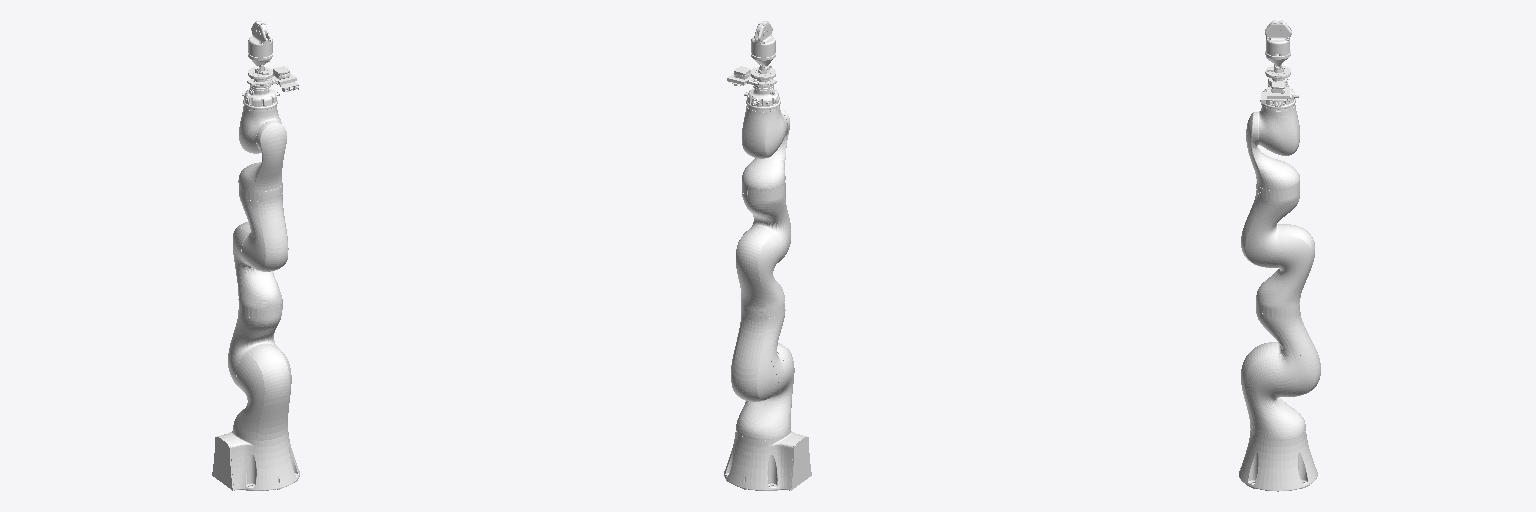
The robot description file, URDF, robot "converted_robot":
<?xml version="1.0" ?>
<robot name="converted_robot">
   <link name="world">
      <inertial>
         <origin xyz="0.0 0.0 0.0" rpy="0.0 0.0 0.0"/>
         <mass value="0.0"/>
         <inertia ixx="0.0" iyy="0.0" izz="0.0" ixy="0" ixz="0" iyz="0"/>
      </inertial>
   </link>
   <link name="iiwa_base">
      <inertial>
         <origin xyz="0.0 0.0 0.0" rpy="0.0 0.0 0.0"/>
         <mass value="0.0"/>
         <inertia ixx="0.0" iyy="0.0" izz="0.0" ixy="0" ixz="0" iyz="0"/>
      </inertial>
      <visual name="link_0">
         <origin xyz="-0.012605232162215539 4.887429599908401e-06 0.07037290460250488" rpy="3.1414254651921683 -1.4927369668762536 0.0005002689558265255"/>
         <geometry>
            <mesh filename="converted_link_0.stl"/>
         </geometry>
         <material name="white"/>
      </visual>
      <visual name="link_0">
         <origin xyz="-0.012605232162215539 4.887429599908401e-06 0.07037290460250488" rpy="3.1414254651921683 -1.4927369668762536 0.0005002689558265255"/>
         <geometry>
            <mesh filename="converted_link_0.stl"/>
         </geometry>
         <material name="white"/>
      </visual>
   </link>
   <link name="world2iiwa_base_fixed">
      <inertial>
         <origin xyz="0.0 0.0 0.0" rpy="0.0 0.0 0.0"/>
         <mass value="0.001"/>
         <inertia ixx="1e-09" iyy="1e-09" izz="1e-09" ixy="0" ixz="0" iyz="0"/>
      </inertial>
   </link>
   <joint type="fixed" name="world2iiwa_base_fixed">
      <parent link="world"/>
      <child link="world2iiwa_base_fixed"/>
      <origin xyz="0.0 0.0 0.0" rpy="0.0 0.0 0.0"/>
   </joint>
   <joint type="fixed" name="world2iiwa_base_fixed_offset">
      <parent link="world2iiwa_base_fixed"/>
      <child link="iiwa_base"/>
      <origin xyz="-0.0 -0.0 -0.0" rpy="0.0 0.0 0.0"/>
   </joint>
   <link name="iiwa_link_1">
      <inertial>
         <origin xyz="0.0 -0.01439 0.102503" rpy="0.0 0.0 0.0"/>
         <mass value="6.495"/>
         <inertia ixx="0.0690761441316632" iyy="0.0711085586914514" izz="0.0200625854402119" ixy="0" ixz="0" iyz="0"/>
      </inertial>
      <visual name="link_1">
         <origin xyz="-5.27104350625686e-06 -0.03353670972211395 0.12342119298767149" rpy="-9.198525242337357e-05 -0.21414688022549955 1.5710213048599266"/>
         <geometry>
            <mesh filename="converted_link_1.stl"/>
         </geometry>
         <material name="white"/>
      </visual>
      <visual name="link_1">
         <origin xyz="-5.27104350625686e-06 -0.03353670972211395 0.12342119298767149" rpy="-9.198525242337357e-05 -0.21414688022549955 1.5710213048599266"/>
         <geometry>
            <mesh filename="converted_link_1.stl"/>
         </geometry>
         <material name="white"/>
      </visual>
   </link>
   <link name="iiwa_joint_1">
      <inertial>
         <origin xyz="0.0 0.0 0.0" rpy="0.0 0.0 0.0"/>
         <mass value="0.001"/>
         <inertia ixx="1e-09" iyy="1e-09" izz="1e-09" ixy="0" ixz="0" iyz="0"/>
      </inertial>
   </link>
   <joint type="revolute" name="iiwa_joint_1">
      <parent link="iiwa_base"/>
      <child link="iiwa_joint_1"/>
      <origin xyz="0.0 0.0 0.1575" rpy="0.0 0.0 0.0"/>
      <axis xyz="0.0 0.0 1.0"/>
      <limit lower="-2.96706" upper="2.96706" effort="100" velocity="100"/>
   </joint>
   <joint type="fixed" name="iiwa_joint_1_offset">
      <parent link="iiwa_joint_1"/>
      <child link="iiwa_link_1"/>
      <origin xyz="-0.0 -0.0 -0.0" rpy="0.0 0.0 0.0"/>
   </joint>
   <link name="iiwa_link_2">
      <inertial>
         <origin xyz="1.2e-05 0.06472 0.004804" rpy="0.0 0.0 0.0"/>
         <mass value="8.807"/>
         <inertia ixx="0.0824701683534692" iyy="0.0164110968055191" izz="0.0873510892661361" ixy="0" ixz="0" iyz="0"/>
      </inertial>
      <visual name="link_2">
         <origin xyz="0.00019457364355379413 0.07676150111206871 0.03696552398076234" rpy="-3.0937993815979024 -1.3271099980218897 1.5213877010393428"/>
         <geometry>
            <mesh filename="converted_link_2.stl"/>
         </geometry>
         <material name="white"/>
      </visual>
      <visual name="link_2">
         <origin xyz="0.00019457364355379413 0.07676150111206871 0.03696552398076234" rpy="-3.0937993815979024 -1.3271099980218897 1.5213877010393428"/>
         <geometry>
            <mesh filename="converted_link_2.stl"/>
         </geometry>
         <material name="white"/>
      </visual>
   </link>
   <link name="iiwa_joint_2">
      <inertial>
         <origin xyz="0.0 0.0 0.0" rpy="0.0 0.0 0.0"/>
         <mass value="0.001"/>
         <inertia ixx="1e-09" iyy="1e-09" izz="1e-09" ixy="0" ixz="0" iyz="0"/>
      </inertial>
   </link>
   <joint type="revolute" name="iiwa_joint_2">
      <parent link="iiwa_link_1"/>
      <child link="iiwa_joint_2"/>
      <origin xyz="0.0 0.0 0.2025" rpy="1.5707963267948963 0.0 3.141592653589793"/>
      <axis xyz="0.0 0.0 1.0"/>
      <limit lower="-2.0944" upper="2.0944" effort="100" velocity="100"/>
   </joint>
   <joint type="fixed" name="iiwa_joint_2_offset">
      <parent link="iiwa_joint_2"/>
      <child link="iiwa_link_2"/>
      <origin xyz="-0.0 -0.0 -0.0" rpy="0.0 0.0 0.0"/>
   </joint>
   <link name="iiwa_link_3">
      <inertial>
         <origin xyz="-0.000208 0.01601 0.087283" rpy="0.0 0.0 0.0"/>
         <mass value="2.8"/>
         <inertia ixx="0.0230152941318817" iyy="0.0228661554143474" izz="0.0454482283748983" ixy="0" ixz="0" iyz="0"/>
      </inertial>
      <visual name="link_3">
         <origin xyz="3.422167817053064e-06 0.034593431321985266 0.11460321517528532" rpy="-0.25847229786925596 -0.004008068005500576 -0.015446283450070843"/>
         <geometry>
            <mesh filename="converted_link_3.stl"/>
         </geometry>
         <material name="white"/>
      </visual>
      <visual name="link_3">
         <origin xyz="3.422167817053064e-06 0.034593431321985266 0.11460321517528532" rpy="-0.25847229786925596 -0.004008068005500576 -0.015446283450070843"/>
         <geometry>
            <mesh filename="converted_link_3.stl"/>
         </geometry>
         <material name="white"/>
      </visual>
   </link>
   <link name="iiwa_joint_3">
      <inertial>
         <origin xyz="0.0 0.0 0.0" rpy="0.0 0.0 0.0"/>
         <mass value="0.001"/>
         <inertia ixx="1e-09" iyy="1e-09" izz="1e-09" ixy="0" ixz="0" iyz="0"/>
      </inertial>
   </link>
   <joint type="revolute" name="iiwa_joint_3">
      <parent link="iiwa_link_2"/>
      <child link="iiwa_joint_3"/>
      <origin xyz="0.0 0.2375 0.0" rpy="1.5707963267948963 0.0 3.141592653589793"/>
      <axis xyz="0.0 0.0 1.0"/>
      <limit lower="-2.96706" upper="2.96706" effort="100" velocity="100"/>
   </joint>
   <joint type="fixed" name="iiwa_joint_3_offset">
      <parent link="iiwa_joint_3"/>
      <child link="iiwa_link_3"/>
      <origin xyz="-0.0 -0.0 -0.0" rpy="0.0 0.0 0.0"/>
   </joint>
   <link name="iiwa_link_4">
      <inertial>
         <origin xyz="-0.000203 0.098639 0.011478" rpy="0.0 0.0 0.0"/>
         <mass value="5.283"/>
         <inertia ixx="0.0472789668341968" iyy="0.00964726804146909" izz="0.0466529007761679" ixy="0" ixz="0" iyz="0"/>
      </inertial>
      <visual name="link_4">
         <origin xyz="1.8371466943306352e-06 0.08761761171218926 0.029221984000194035" rpy="1.3127574114804588 0.0028218127968602236 -0.0007313284894353545"/>
         <geometry>
            <mesh filename="converted_link_4.stl"/>
         </geometry>
         <material name="white"/>
      </visual>
      <visual name="link_4">
         <origin xyz="1.8371466943306352e-06 0.08761761171218926 0.029221984000194035" rpy="1.3127574114804588 0.0028218127968602236 -0.0007313284894353545"/>
         <geometry>
            <mesh filename="converted_link_4.stl"/>
         </geometry>
         <material name="white"/>
      </visual>
   </link>
   <link name="iiwa_joint_4">
      <inertial>
         <origin xyz="0.0 0.0 0.0" rpy="0.0 0.0 0.0"/>
         <mass value="0.001"/>
         <inertia ixx="1e-09" iyy="1e-09" izz="1e-09" ixy="0" ixz="0" iyz="0"/>
      </inertial>
   </link>
   <joint type="revolute" name="iiwa_joint_4">
      <parent link="iiwa_link_3"/>
      <child link="iiwa_joint_4"/>
      <origin xyz="0.0 0.0 0.1825" rpy="1.5707963267948963 0.0 0.0"/>
      <axis xyz="0.0 0.0 1.0"/>
      <limit lower="-2.0944" upper="2.0944" effort="100" velocity="100"/>
   </joint>
   <joint type="fixed" name="iiwa_joint_4_offset">
      <parent link="iiwa_joint_4"/>
      <child link="iiwa_link_4"/>
      <origin xyz="-0.0 -0.0 -0.0" rpy="0.0 0.0 0.0"/>
   </joint>
   <link name="iiwa_link_5">
      <inertial>
         <origin xyz="5.7e-05 0.014468 0.062938" rpy="0.0 0.0 0.0"/>
         <mass value="1.889"/>
         <inertia ixx="0.0138359953358589" iyy="0.0116859337751969" izz="0.00571863785412578" ixy="0" ixz="0" iyz="0"/>
      </inertial>
      <visual name="link_5">
         <origin xyz="-0.0001324869571615851 0.03311986980314611 0.07751948889536421" rpy="0.001424813406476269 -0.46017360706180677 -1.5799843072107402"/>
         <geometry>
            <mesh filename="converted_link_5.stl"/>
         </geometry>
         <material name="white"/>
      </visual>
      <visual name="link_5">
         <origin xyz="-0.0001324869571615851 0.03311986980314611 0.07751948889536421" rpy="0.001424813406476269 -0.46017360706180677 -1.5799843072107402"/>
         <geometry>
            <mesh filename="converted_link_5.stl"/>
         </geometry>
         <material name="white"/>
      </visual>
   </link>
   <link name="iiwa_joint_5">
      <inertial>
         <origin xyz="0.0 0.0 0.0" rpy="0.0 0.0 0.0"/>
         <mass value="0.001"/>
         <inertia ixx="1e-09" iyy="1e-09" izz="1e-09" ixy="0" ixz="0" iyz="0"/>
      </inertial>
   </link>
   <joint type="revolute" name="iiwa_joint_5">
      <parent link="iiwa_link_4"/>
      <child link="iiwa_joint_5"/>
      <origin xyz="0.0 0.2175 0.0" rpy="1.5707963267948963 0.0 3.141592653589793"/>
      <axis xyz="0.0 0.0 1.0"/>
      <limit lower="-2.96706" upper="2.96706" effort="100" velocity="100"/>
   </joint>
   <joint type="fixed" name="iiwa_joint_5_offset">
      <parent link="iiwa_joint_5"/>
      <child link="iiwa_link_5"/>
      <origin xyz="-0.0 -0.0 -0.0" rpy="0.0 0.0 0.0"/>
   </joint>
   <link name="iiwa_link_6">
      <inertial>
         <origin xyz="0.000363 0.016982 -0.019731" rpy="0.0 0.0 0.0"/>
         <mass value="2.32"/>
         <inertia ixx="0.00732758787216765" iyy="0.00477633755783711" izz="0.00606797638550296" ixy="0" ixz="0" iyz="0"/>
      </inertial>
      <visual name="link_6">
         <origin xyz="-1.4832284468175207e-06 0.0012410521503498995 0.0018175210533025454" rpy="1.7323183586233437 -0.002485992547326843 3.141042649500553"/>
         <geometry>
            <mesh filename="converted_link_6.stl"/>
         </geometry>
         <material name="white"/>
      </visual>
      <visual name="link_6">
         <origin xyz="-1.4832284468175207e-06 0.0012410521503498995 0.0018175210533025454" rpy="1.7323183586233437 -0.002485992547326843 3.141042649500553"/>
         <geometry>
            <mesh filename="converted_link_6.stl"/>
         </geometry>
         <material name="white"/>
      </visual>
   </link>
   <link name="iiwa_joint_6">
      <inertial>
         <origin xyz="0.0 0.0 0.0" rpy="0.0 0.0 0.0"/>
         <mass value="0.001"/>
         <inertia ixx="1e-09" iyy="1e-09" izz="1e-09" ixy="0" ixz="0" iyz="0"/>
      </inertial>
   </link>
   <joint type="revolute" name="iiwa_joint_6">
      <parent link="iiwa_link_5"/>
      <child link="iiwa_joint_6"/>
      <origin xyz="0.0 0.0 0.1825" rpy="1.5707963267948963 0.0 0.0"/>
      <axis xyz="0.0 0.0 1.0"/>
      <limit lower="-2.0944" upper="2.0944" effort="100" velocity="100"/>
   </joint>
   <joint type="fixed" name="iiwa_joint_6_offset">
      <parent link="iiwa_joint_6"/>
      <child link="iiwa_link_6"/>
      <origin xyz="-0.0 -0.0 -0.0" rpy="0.0 0.0 0.0"/>
   </joint>
   <link name="iiwa_link_7">
      <inertial>
         <origin xyz="0.001904 -9.3e-05 0.018862" rpy="0.0 0.0 0.0"/>
         <mass value="0.863"/>
         <inertia ixx="0.000884" iyy="0.000888" izz="0.001105" ixy="0" ixz="0" iyz="0"/>
      </inertial>
      <visual name="link_7">
         <origin xyz="-0.0003526944420571491 0.0014705984572197317 0.028385956351366533" rpy="2.059615554126512 -1.5223534615841767 -0.09155740779596021"/>
         <geometry>
            <mesh filename="converted_link_7.stl"/>
         </geometry>
         <material name="white"/>
      </visual>
      <visual name="link_7">
         <origin xyz="-0.0003526944420571491 0.0014705984572197317 0.028385956351366533" rpy="2.059615554126512 -1.5223534615841767 -0.09155740779596021"/>
         <geometry>
            <mesh filename="converted_link_7.stl"/>
         </geometry>
         <material name="white"/>
      </visual>
   </link>
   <link name="iiwa_joint_7">
      <inertial>
         <origin xyz="0.0 0.0 0.0" rpy="0.0 0.0 0.0"/>
         <mass value="0.001"/>
         <inertia ixx="1e-09" iyy="1e-09" izz="1e-09" ixy="0" ixz="0" iyz="0"/>
      </inertial>
   </link>
   <joint type="revolute" name="iiwa_joint_7">
      <parent link="iiwa_link_6"/>
      <child link="iiwa_joint_7"/>
      <origin xyz="0.0 0.081 0.0" rpy="1.5707963267948963 0.0 3.141592653589793"/>
      <axis xyz="0.0 0.0 1.0"/>
      <limit lower="-3.05433" upper="3.05433" effort="100" velocity="100"/>
   </joint>
   <joint type="fixed" name="iiwa_joint_7_offset">
      <parent link="iiwa_joint_7"/>
      <child link="iiwa_link_7"/>
      <origin xyz="-0.0 -0.0 -0.0" rpy="0.0 0.0 0.0"/>
   </joint>
   <link name="cj_top">
      <inertial>
         <origin xyz="0.0135 -0.0 0.02238" rpy="0.0 0.0 0.0"/>
         <mass value="0.5"/>
         <inertia ixx="0.000124" iyy="0.000378" izz="0.000425" ixy="0" ixz="0" iyz="0"/>
      </inertial>
      <visual name="cj_cam_mount_vis">
         <origin xyz="0.041258404438788726 -0.007104178327697462 0.015216374048524066" rpy="-2.513783919079756 -1.1884949070966617 -0.8328063511935578"/>
         <geometry>
            <mesh filename="converted_cj_cam_mount_vis.stl"/>
         </geometry>
         <material name="white"/>
      </visual>
      <visual name="cj_cam_mount">
         <origin xyz="0.04090966786232343 -0.00672861200351045 0.015607382665049074" rpy="-2.377596235093358 -1.1636747845042246 -0.9852471262923431"/>
         <geometry>
            <mesh filename="converted_cj_cam_mount.stl"/>
         </geometry>
         <material name="white"/>
      </visual>
   </link>
   <link name="iiwa_link_72cj_top_fixed">
      <inertial>
         <origin xyz="0.0 0.0 0.0" rpy="0.0 0.0 0.0"/>
         <mass value="0.001"/>
         <inertia ixx="1e-09" iyy="1e-09" izz="1e-09" ixy="0" ixz="0" iyz="0"/>
      </inertial>
   </link>
   <joint type="fixed" name="iiwa_link_72cj_top_fixed">
      <parent link="iiwa_link_7"/>
      <child link="iiwa_link_72cj_top_fixed"/>
      <origin xyz="0.0 0.0 0.071" rpy="0.0 0.0 0.0"/>
   </joint>
   <joint type="fixed" name="iiwa_link_72cj_top_fixed_offset">
      <parent link="iiwa_link_72cj_top_fixed"/>
      <child link="cj_top"/>
      <origin xyz="-0.0 -0.0 -0.0" rpy="0.0 0.0 0.0"/>
   </joint>
   <link name="cj_middle">
      <inertial>
         <origin xyz="0.0 0.0 0.0" rpy="0.0 0.0 0.0"/>
         <mass value="0.016"/>
         <inertia ixx="1e-06" iyy="1e-06" izz="1e-06" ixy="0" ixz="0" iyz="0"/>
      </inertial>
      <visual name="cj_middle_vis">
         <origin xyz="-8.463392889917393e-12 9.83445372340832e-15 4.262779455535506e-12" rpy="1.5707963267948966 -1.5707963057214722 0.0"/>
         <geometry>
            <mesh filename="converted_cj_middle_vis.stl"/>
         </geometry>
         <material name="white"/>
      </visual>
      <visual name="cj_middle">
         <origin xyz="8.967736131474848e-10 4.289261755296317e-09 -9.139484782691423e-09" rpy="1.5707963267948966 -1.5707963057214722 0.0"/>
         <geometry>
            <mesh filename="converted_cj_middle.stl"/>
         </geometry>
         <material name="white"/>
      </visual>
   </link>
   <link name="joint_cj1">
      <inertial>
         <origin xyz="0.0 0.0 0.0" rpy="0.0 0.0 0.0"/>
         <mass value="0.001"/>
         <inertia ixx="1e-09" iyy="1e-09" izz="1e-09" ixy="0" ixz="0" iyz="0"/>
      </inertial>
   </link>
   <joint type="revolute" name="joint_cj1">
      <parent link="cj_top"/>
      <child link="joint_cj1"/>
      <origin xyz="0.0 0.0 0.07077" rpy="0.0 0.0 0.0"/>
      <axis xyz="1.0 0.0 0.0"/>
      <limit lower="-0.785" upper="0.785" effort="100" velocity="100"/>
   </joint>
   <joint type="fixed" name="joint_cj1_offset">
      <parent link="joint_cj1"/>
      <child link="cj_middle"/>
      <origin xyz="-0.0 -0.0 -0.0" rpy="0.0 0.0 0.0"/>
   </joint>
   <link name="cj_bot">
      <inertial>
         <origin xyz="0.0 0.0 0.05" rpy="0.0 0.0 0.0"/>
         <mass value="1.0"/>
         <inertia ixx="0.0008" iyy="0.0008" izz="0.001" ixy="0" ixz="0" iyz="0"/>
      </inertial>
      <visual name="cj_bot_vis">
         <origin xyz="0.00015271519944676283 -0.004073131328052309 0.0009123981241352209" rpy="3.1221008947552984 1.5074100227533762 1.591807463255164"/>
         <geometry>
            <mesh filename="converted_cj_bot_vis.stl"/>
         </geometry>
         <material name="white"/>
      </visual>
      <visual name="cj_bot">
         <origin xyz="3.511014749576836e-05 -0.0007424685581731827 -0.004167570293986278" rpy="1.9660266630606218 1.5477863006237507 1.6112222182089324"/>
         <geometry>
            <mesh filename="converted_cj_bot.stl"/>
         </geometry>
         <material name="white"/>
      </visual>
   </link>
   <link name="joint_cj2">
      <inertial>
         <origin xyz="0.0 0.0 0.0" rpy="0.0 0.0 0.0"/>
         <mass value="0.001"/>
         <inertia ixx="1e-09" iyy="1e-09" izz="1e-09" ixy="0" ixz="0" iyz="0"/>
      </inertial>
   </link>
   <joint type="revolute" name="joint_cj2">
      <parent link="cj_middle"/>
      <child link="joint_cj2"/>
      <origin xyz="0.0 0.0 0.0" rpy="0.0 0.0 0.0"/>
      <axis xyz="0.0 1.0 0.0"/>
      <limit lower="-0.785" upper="0.785" effort="100" velocity="100"/>
   </joint>
   <joint type="fixed" name="joint_cj2_offset">
      <parent link="joint_cj2"/>
      <child link="cj_bot"/>
      <origin xyz="-0.0 -0.0 0.028" rpy="0.0 0.0 0.0"/>
   </joint>
   <link name="base_mount">
      <inertial>
         <origin xyz="0.0 -0.0 0.0" rpy="0.0 0.0 0.0"/>
         <mass value="1.0"/>
         <inertia ixx="0.0005" iyy="0.0005" izz="0.0006" ixy="0" ixz="0" iyz="0"/>
      </inertial>
      <visual name="base_mount">
         <origin xyz="-0.0003605835908682333 8.53627523634894e-05 -5.919937081919364e-05" rpy="0.010714522839643192 -1.567950477987022 3.132357133252331"/>
         <geometry>
            <mesh filename="converted_base_mount.stl"/>
         </geometry>
         <material name="white"/>
      </visual>
      <visual name="base_mount">
         <origin xyz="-0.0003605835908682333 8.53627523634894e-05 -5.919937081919364e-05" rpy="0.010714522839643192 -1.567950477987022 3.132357133252331"/>
         <geometry>
            <mesh filename="converted_base_mount.stl"/>
         </geometry>
         <material name="white"/>
      </visual>
   </link>
   <link name="cj_bot2base_mount_fixed">
      <inertial>
         <origin xyz="0.0 0.0 0.0" rpy="0.0 0.0 0.0"/>
         <mass value="0.001"/>
         <inertia ixx="1e-09" iyy="1e-09" izz="1e-09" ixy="0" ixz="0" iyz="0"/>
      </inertial>
   </link>
   <joint type="fixed" name="cj_bot2base_mount_fixed">
      <parent link="cj_bot"/>
      <child link="cj_bot2base_mount_fixed"/>
      <origin xyz="0.0 0.0 0.0169" rpy="0.0 0.0 0.0"/>
   </joint>
   <joint type="fixed" name="cj_bot2base_mount_fixed_offset">
      <parent link="cj_bot2base_mount_fixed"/>
      <child link="base_mount"/>
      <origin xyz="-0.0 -0.0 -0.0" rpy="0.0 0.0 0.0"/>
   </joint>
   <link name="base">
      <inertial>
         <origin xyz="0.0 -2.70394e-05 0.0354675" rpy="-0.003056977619347881 0.0 0.0"/>
         <mass value="0.777441"/>
         <inertia ixx="0.000260285" iyy="0.000225381" izz="0.000152708" ixy="0" ixz="0" iyz="0"/>
      </inertial>
      <visual name="base">
         <origin xyz="9.197026165775215e-08 -2.7039392101011293e-05 0.0354674813211748" rpy="-0.0030569905423776605 7.761755127511094e-08 2.5390104554665343e-05"/>
         <geometry>
            <mesh filename="converted_base.stl"/>
         </geometry>
         <material name="white"/>
      </visual>
      <visual name="base">
         <origin xyz="9.197026165775215e-08 -2.7039392101011293e-05 0.0354674813211748" rpy="-0.0030569905423776605 7.761755127511094e-08 2.5390104554665343e-05"/>
         <geometry>
            <mesh filename="converted_base.stl"/>
         </geometry>
         <material name="white"/>
      </visual>
   </link>
   <link name="base_mount2base_fixed">
      <inertial>
         <origin xyz="0.0 0.0 0.0" rpy="0.0 0.0 0.0"/>
         <mass value="0.001"/>
         <inertia ixx="1e-09" iyy="1e-09" izz="1e-09" ixy="0" ixz="0" iyz="0"/>
      </inertial>
   </link>
   <joint type="fixed" name="base_mount2base_fixed">
      <parent link="base_mount"/>
      <child link="base_mount2base_fixed"/>
      <origin xyz="0.0 0.0 0.0038" rpy="0.0 0.0 0.0"/>
   </joint>
   <joint type="fixed" name="base_mount2base_fixed_offset">
      <parent link="base_mount2base_fixed"/>
      <child link="base"/>
      <origin xyz="-0.0 -0.0 -0.0" rpy="0.0 0.0 0.0"/>
   </joint>
   <material name="white">
      <color rgba="1 1 1 1"/>
   </material>
</robot>

--- What the picture shows (computed from the rendered views, not written in the file) ---
Views: 3 orthographic renders of the robot side by side, from view 1: azimuth 30°, elevation 25°; view 2: azimuth 150°, elevation 25°; view 3: azimuth 270°, elevation 25°.
Robot: converted_robot — 27 links, 26 joints (9 revolute, 17 fixed); root link world; default pose: every joint at zero.
Links seen in each view (by area): view 1: iiwa_link_1, iiwa_base, iiwa_link_4, iiwa_link_5, iiwa_link_2, iiwa_link_3, iiwa_link_6, cj_top, iiwa_link_7, base; view 2: iiwa_link_2, iiwa_base, iiwa_link_3, iiwa_link_1, iiwa_link_6, iiwa_link_4, iiwa_link_5, cj_top, iiwa_link_7, base; view 3: iiwa_link_1, iiwa_link_2, iiwa_base, iiwa_link_3, iiwa_link_4, iiwa_link_5, iiwa_link_6, cj_top, base.
Boxes of the visible links, box(x1,y1,x2,y2) form: iiwa_link_1: box(233, 344, 291, 440); iiwa_base: box(212, 431, 299, 490); iiwa_link_4: box(239, 182, 288, 271); iiwa_link_5: box(238, 121, 286, 191); iiwa_link_2: box(228, 300, 282, 391); iiwa_link_3: box(233, 221, 282, 308); iiwa_link_6: box(239, 106, 281, 153); cj_top: box(247, 64, 298, 91); iiwa_link_7: box(242, 85, 279, 111); base: box(248, 21, 272, 53); iiwa_link_2: box(731, 301, 787, 401); iiwa_base: box(724, 431, 811, 490); iiwa_link_3: box(736, 226, 784, 308); iiwa_link_1: box(736, 343, 794, 440); iiwa_link_6: box(742, 105, 787, 158); iiwa_link_4: box(742, 182, 790, 262); iiwa_link_5: box(742, 107, 789, 191); cj_top: box(727, 64, 776, 88); iiwa_link_7: box(744, 85, 780, 111); base: box(751, 21, 775, 53); iiwa_link_1: box(1241, 342, 1305, 440); iiwa_link_2: box(1256, 301, 1320, 397); iiwa_base: box(1239, 429, 1317, 491); iiwa_link_3: box(1256, 224, 1314, 308); iiwa_link_4: box(1241, 180, 1299, 267); iiwa_link_5: box(1246, 112, 1299, 190); iiwa_link_6: box(1259, 105, 1299, 155); cj_top: box(1260, 64, 1290, 103); base: box(1265, 20, 1291, 52).
Bounding box of the posed robot: 0.2575 × 0.2535 × 1.54 m (x, y, z).
25 mesh visuals loaded from 16 distinct referenced files (15 binary STL); not drawn: 1 (reference not matched to a file when rendering).
